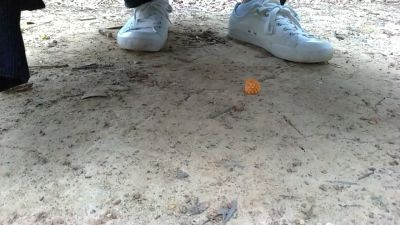eggs: (245, 76, 260, 96)
